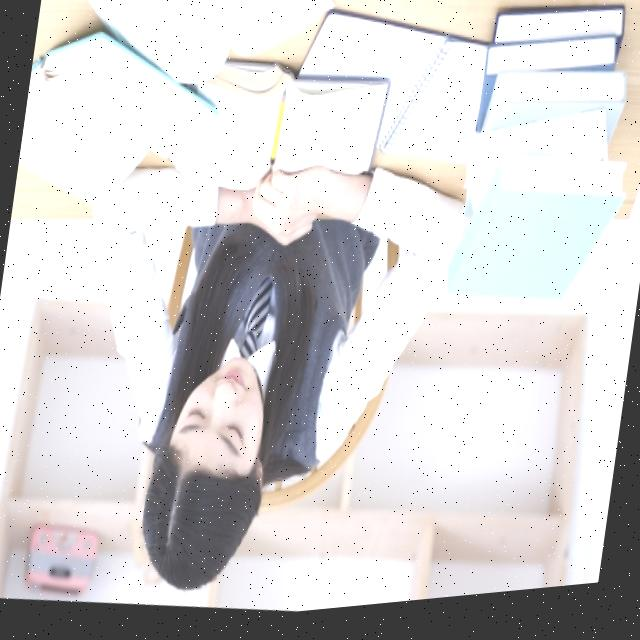studying-person: (0, 0, 493, 640)
